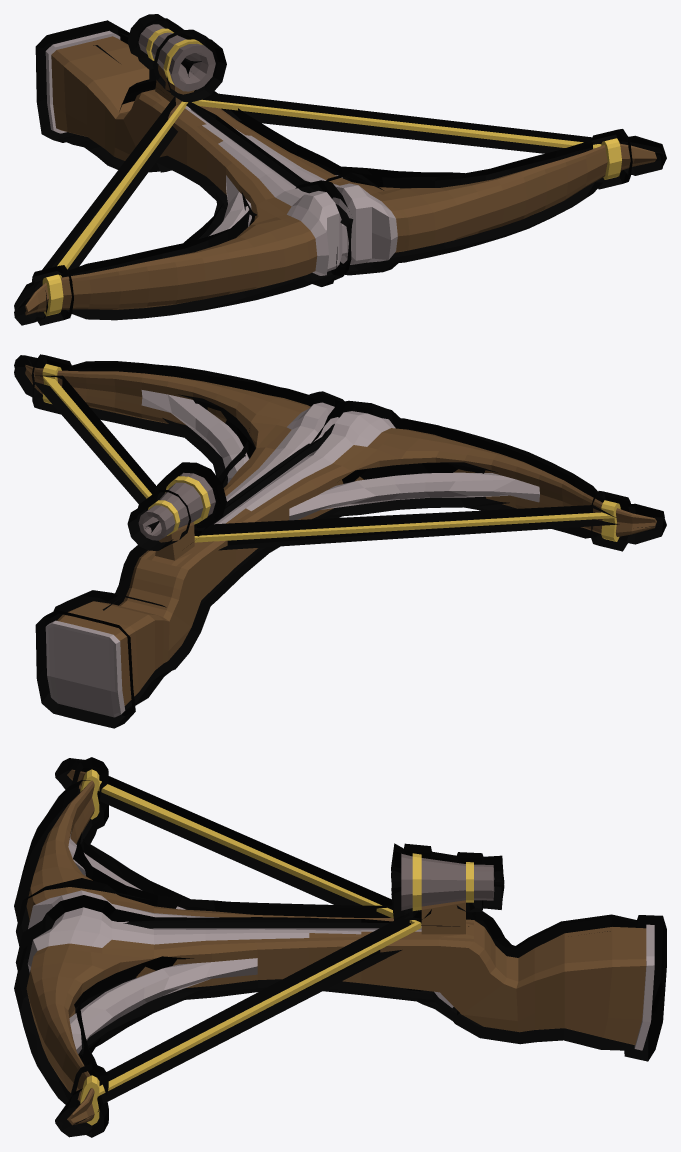
The model's file is crossbow.fbx.
3 renders of one model, top to bottom at view 1: azimuth 30°, elevation 25°; view 2: azimuth 150°, elevation 25°; view 3: azimuth 270°, elevation 25°, orthographic. The views are drawn at different scales.
Visible parts, largest first — view 1: Crossbow, Outline; view 2: Crossbow, Outline; view 3: Crossbow, Outline.
Part boxes in pixels (x1=…): Crossbow: x1=25, y1=24, x2=656, y2=316; Outline: x1=14, y1=14, x2=666, y2=325; Crossbow: x1=25, y1=364, x2=656, y2=717; Outline: x1=14, y1=354, x2=666, y2=728; Crossbow: x1=26, y1=769, x2=654, y2=1125; Outline: x1=14, y1=757, x2=666, y2=1137.
Bounding box in the file's own units: 524 × 136 × 407.
2 materials, 1 textured.
